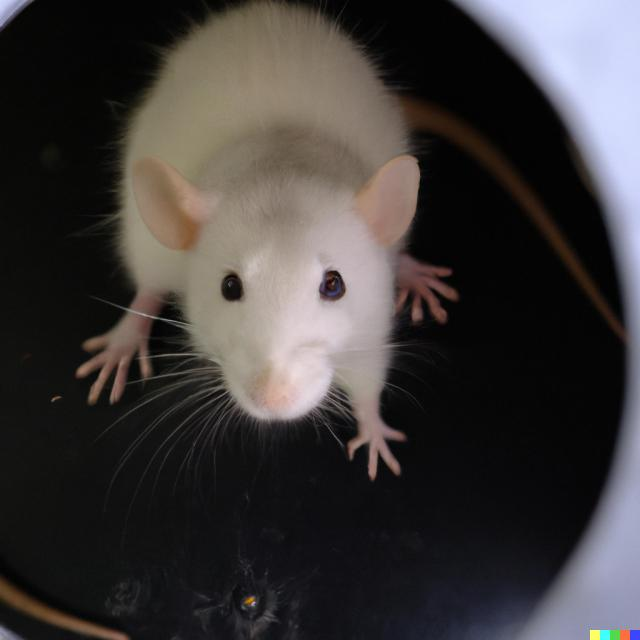rodents: (92, 3, 435, 447)
